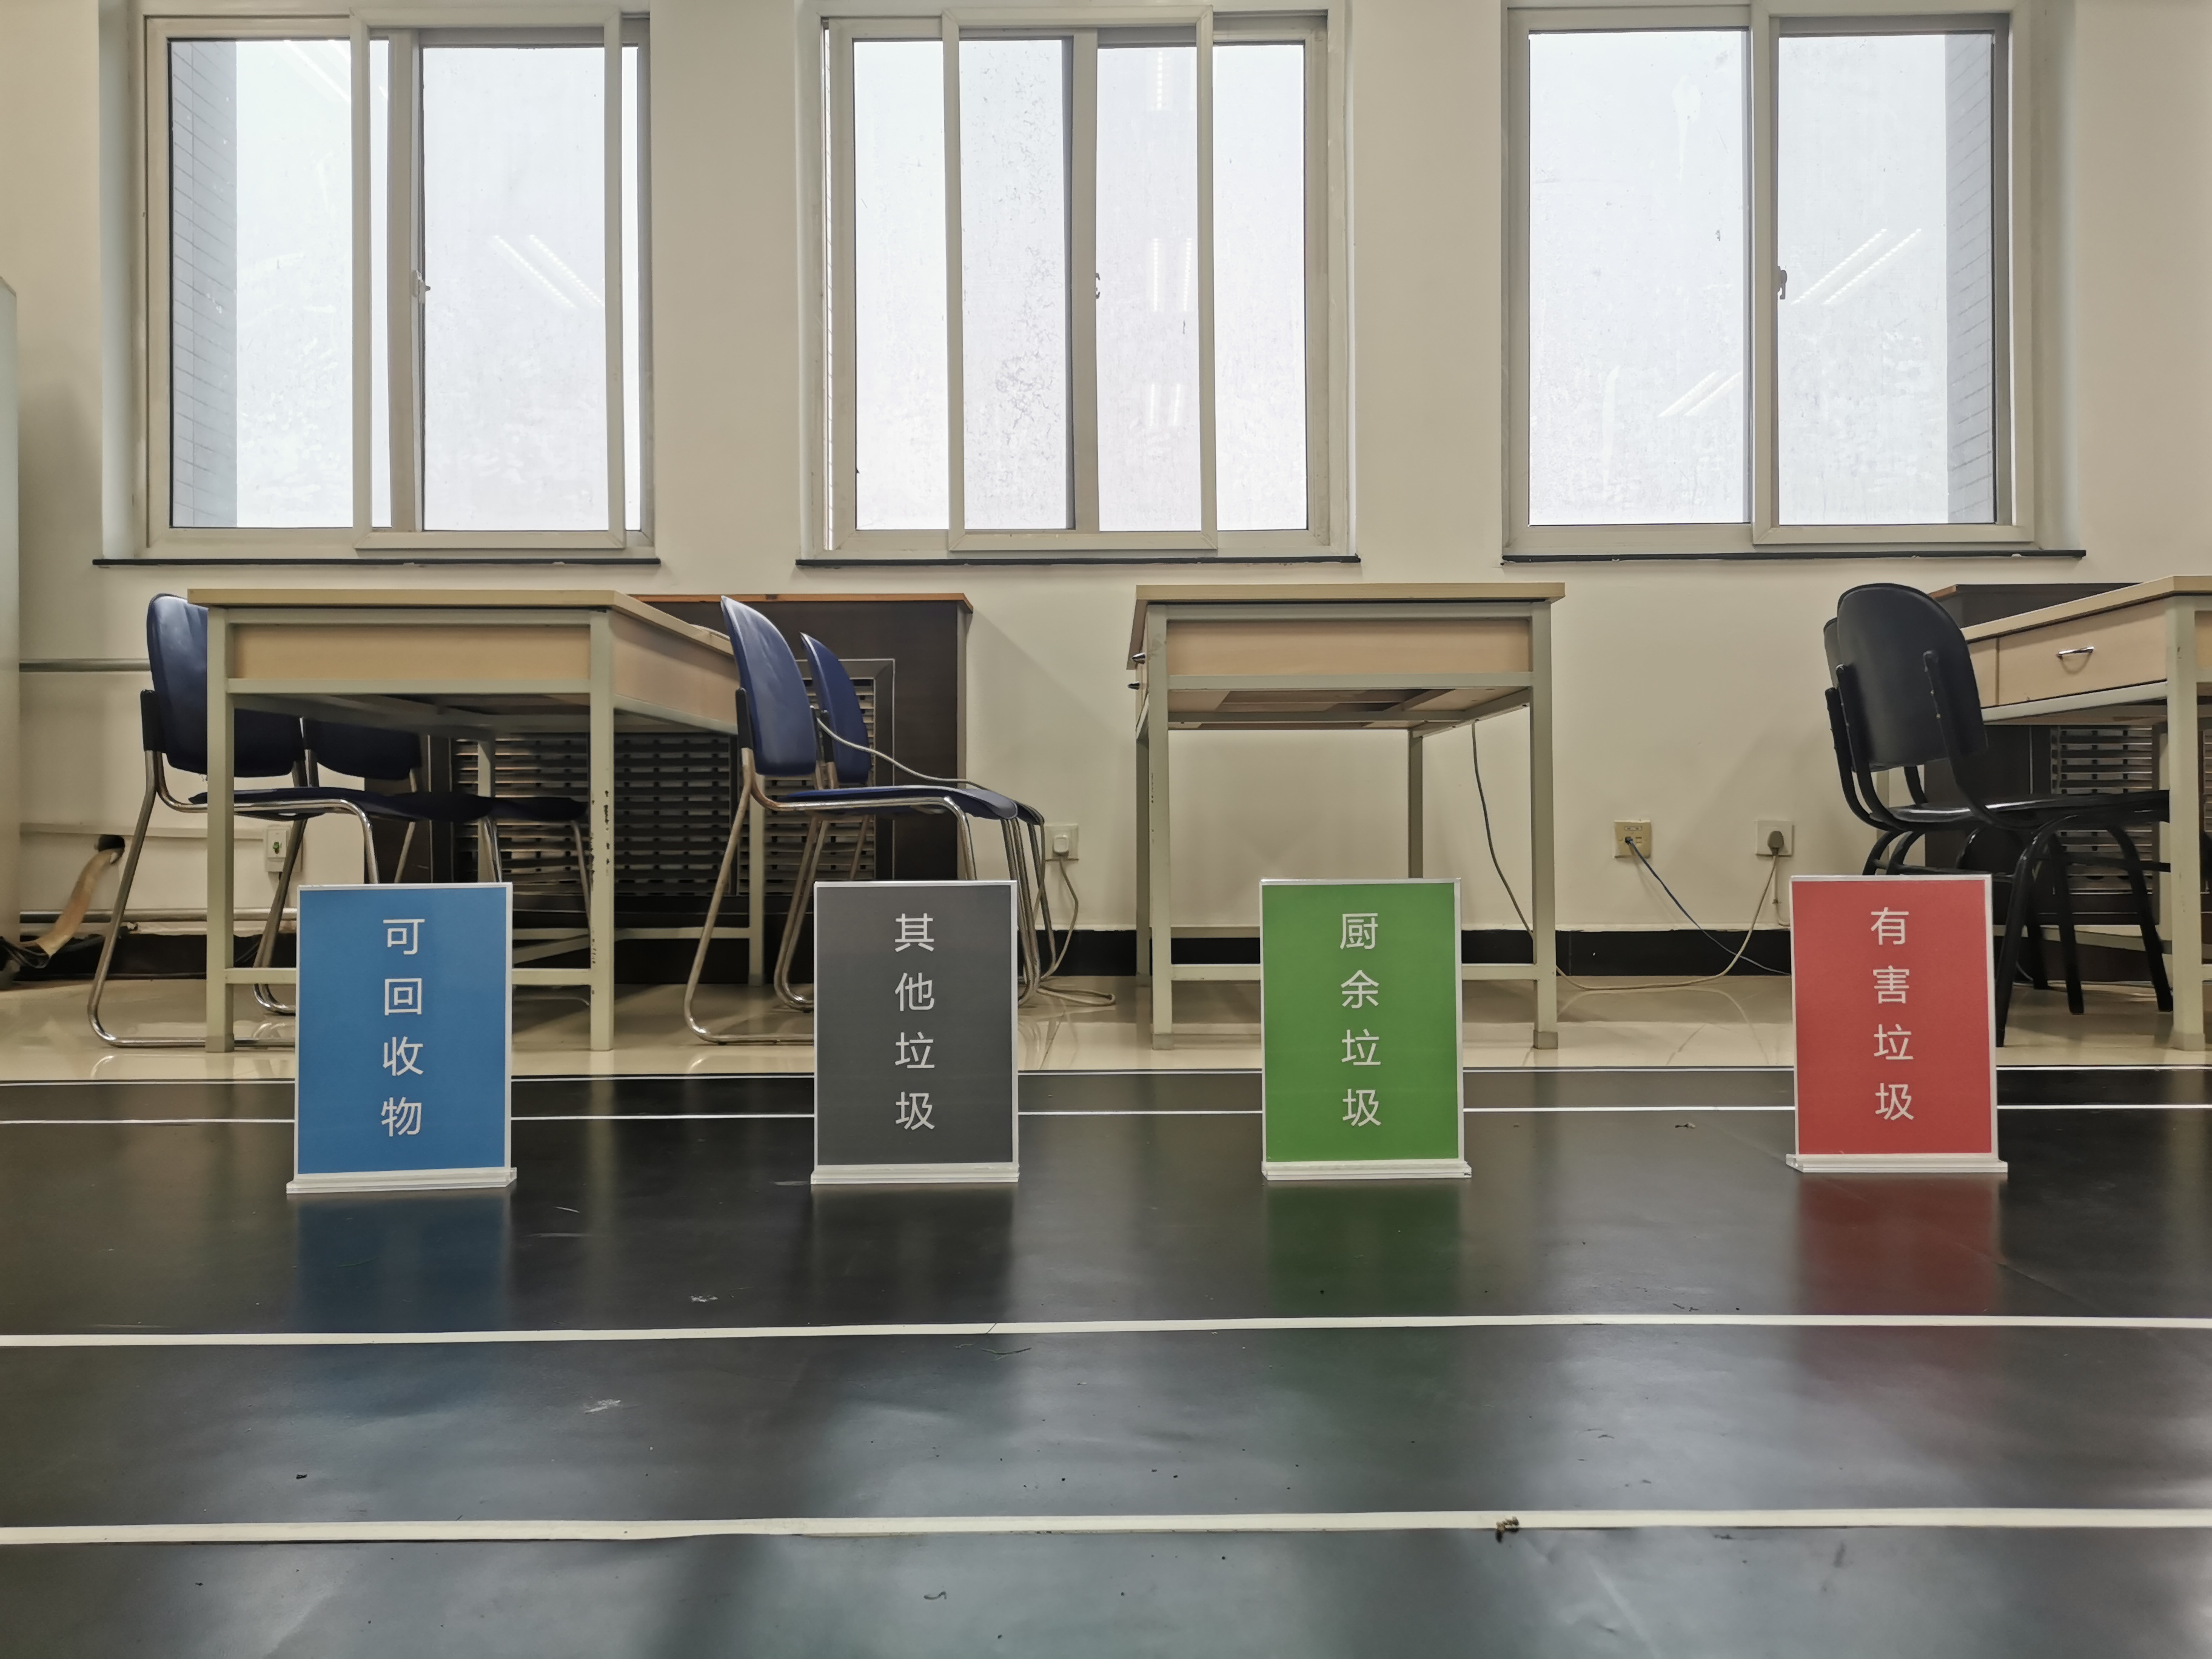black: (824, 890, 1007, 1159)
blue: (303, 896, 502, 1159)
green: (1266, 885, 1454, 1155)
red: (1803, 880, 1984, 1147)
